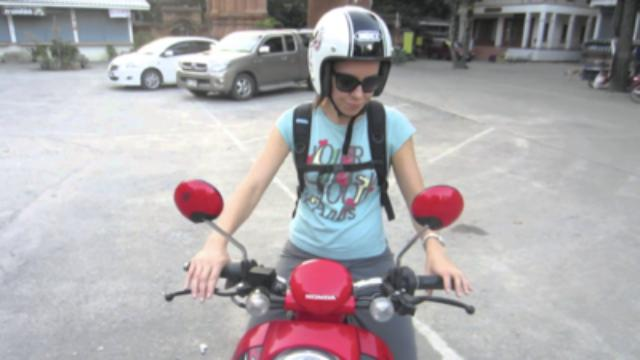With Helmet: (306, 5, 402, 121)
